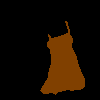vestito: (40, 20, 84, 94)
